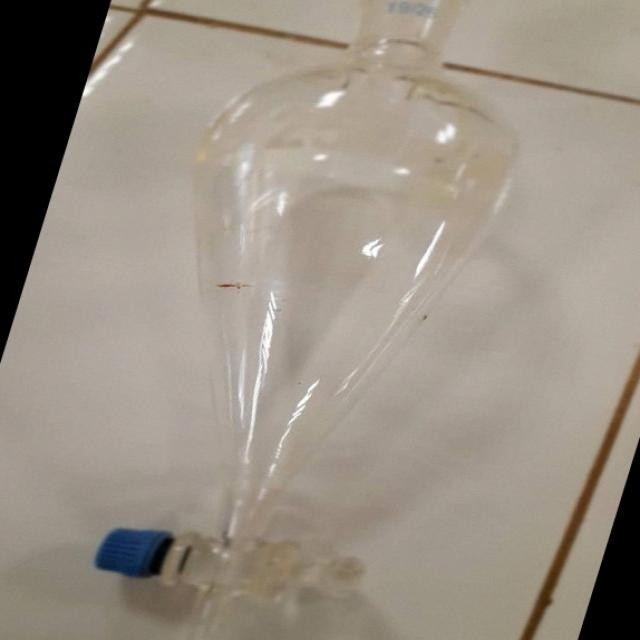Separating Funnel: (41, 0, 568, 640)
